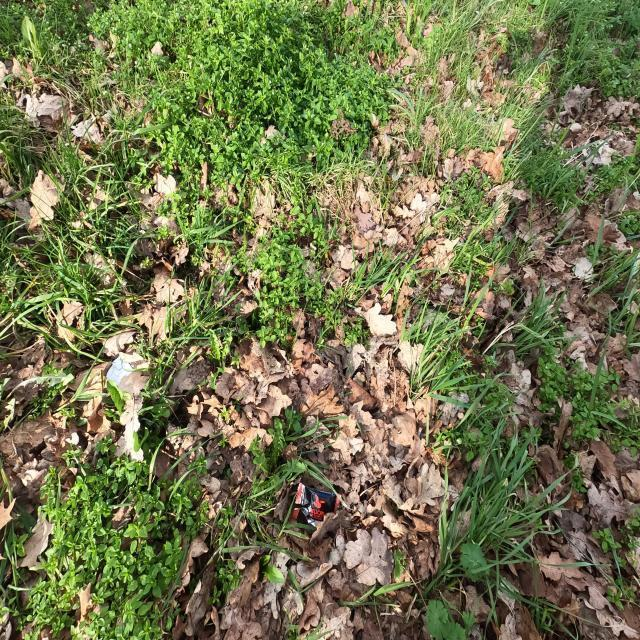Plastic: (291, 480, 342, 528)
